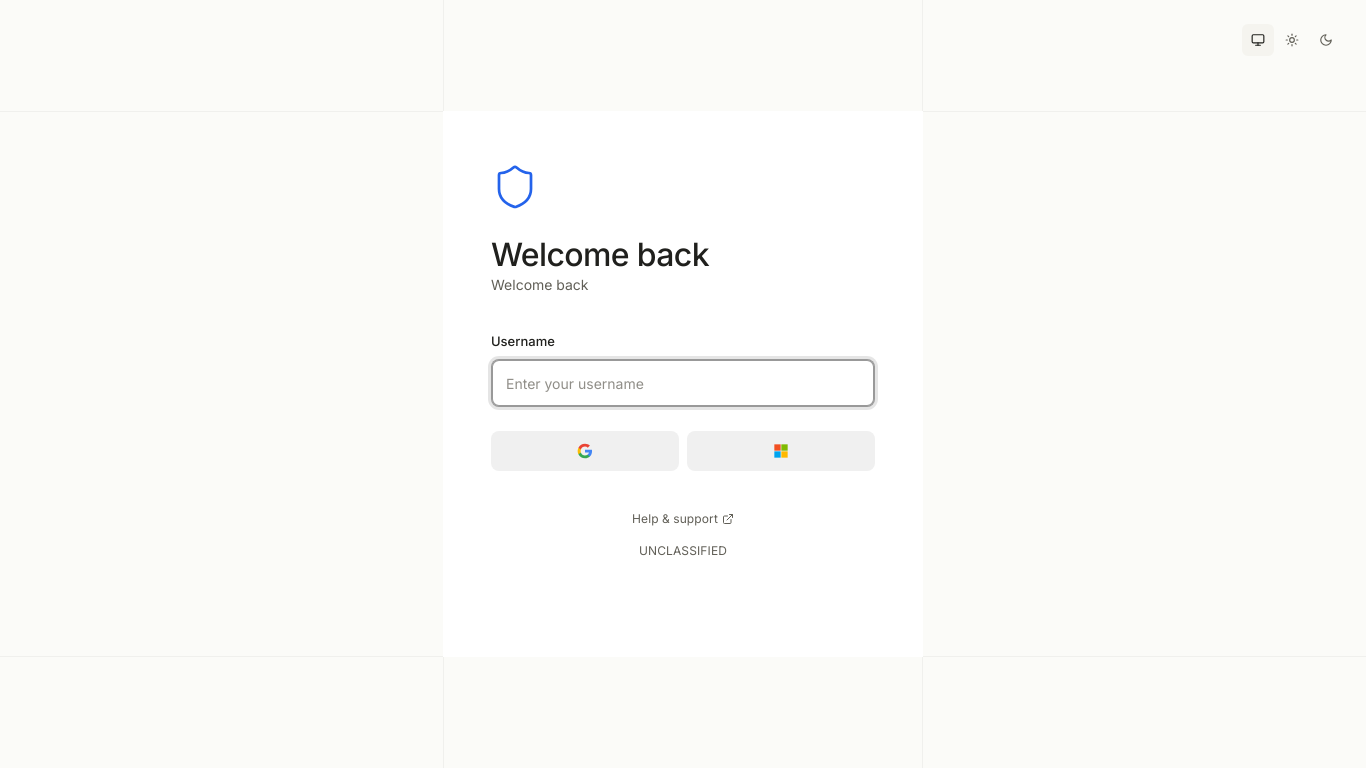
Login — four-mode render › returns from password to identity with the username preserved and focused
Expected: the field labelled "Password" is not shown
Type "analyst@example.com" into the field labelled "Username".
click(683, 383); type("analyst@example.com")  # box [491,359,875,407]
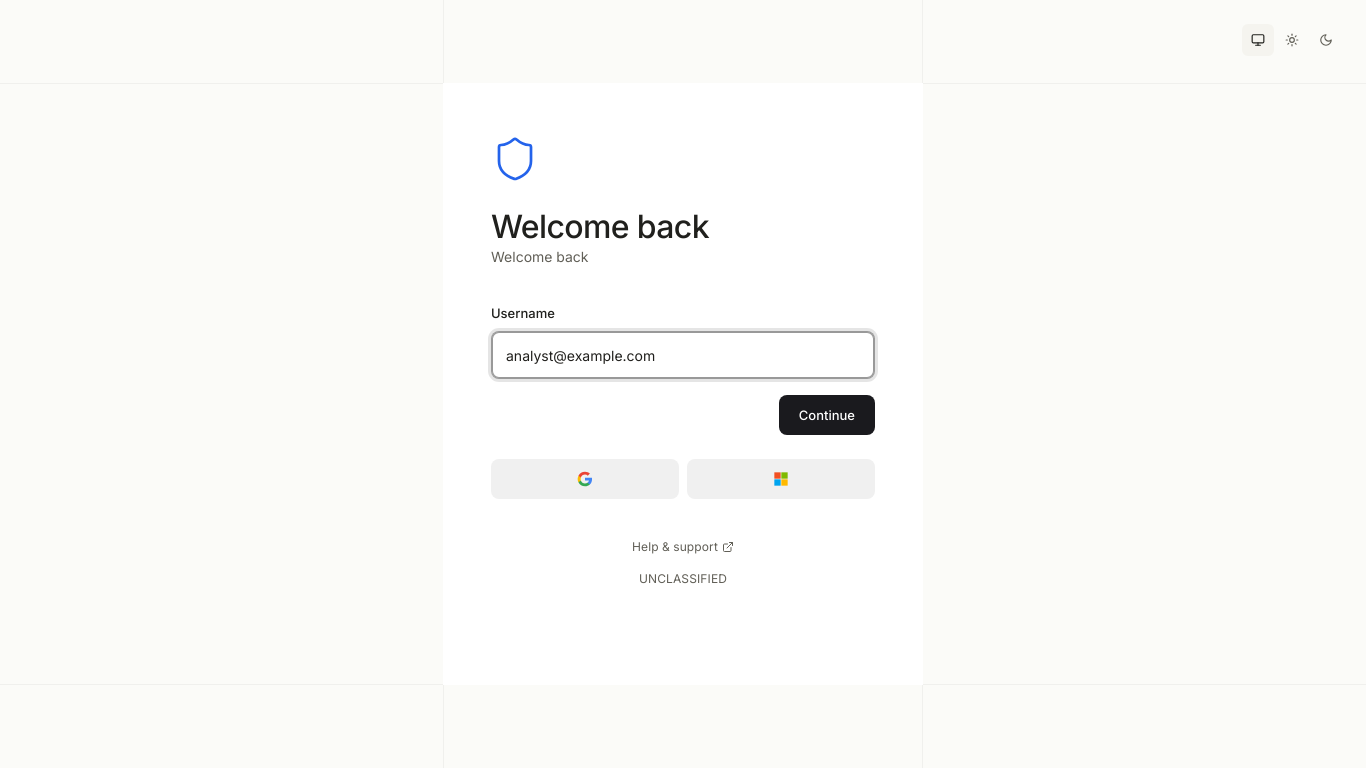
Now the button "Continue" is enabled
Click the button "Continue".
click(827, 415)  # box [779,395,875,435]
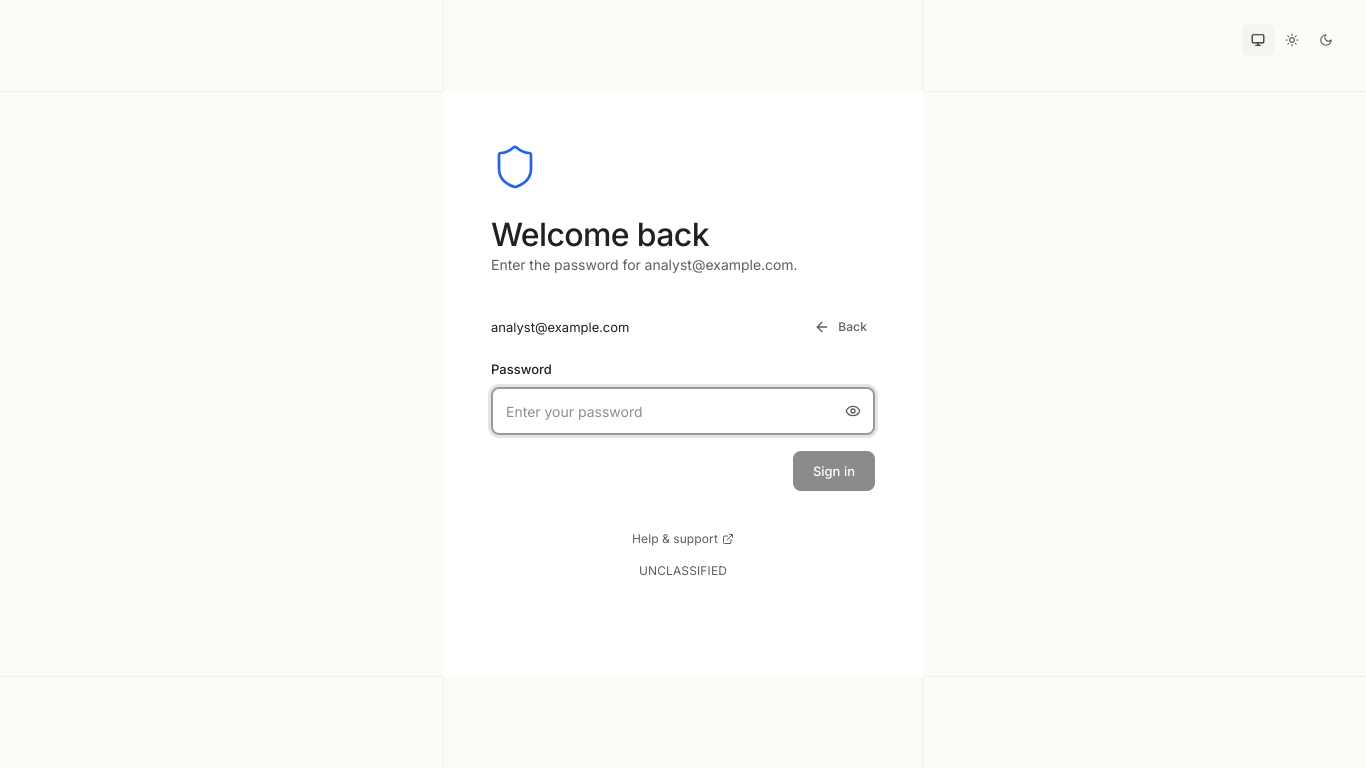
Now the button "Sign in" is disabled, box [793,451,875,491]
Now the button "Continue" is gone
Click the button "Back".
click(841, 327)  # box [806,311,875,343]
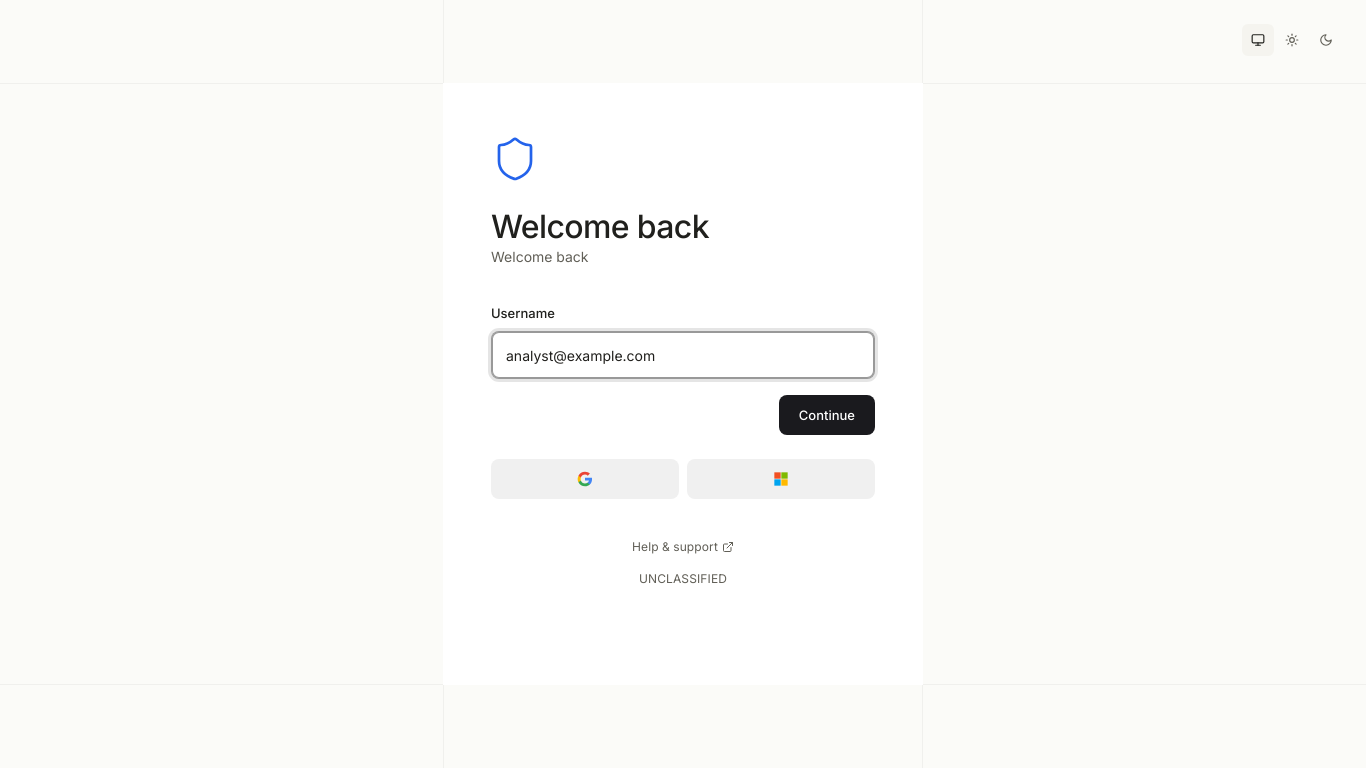
Now the field labelled "Username" holds "analyst@example.com", box [491,331,875,379]
Now the text labelled "password" is gone
